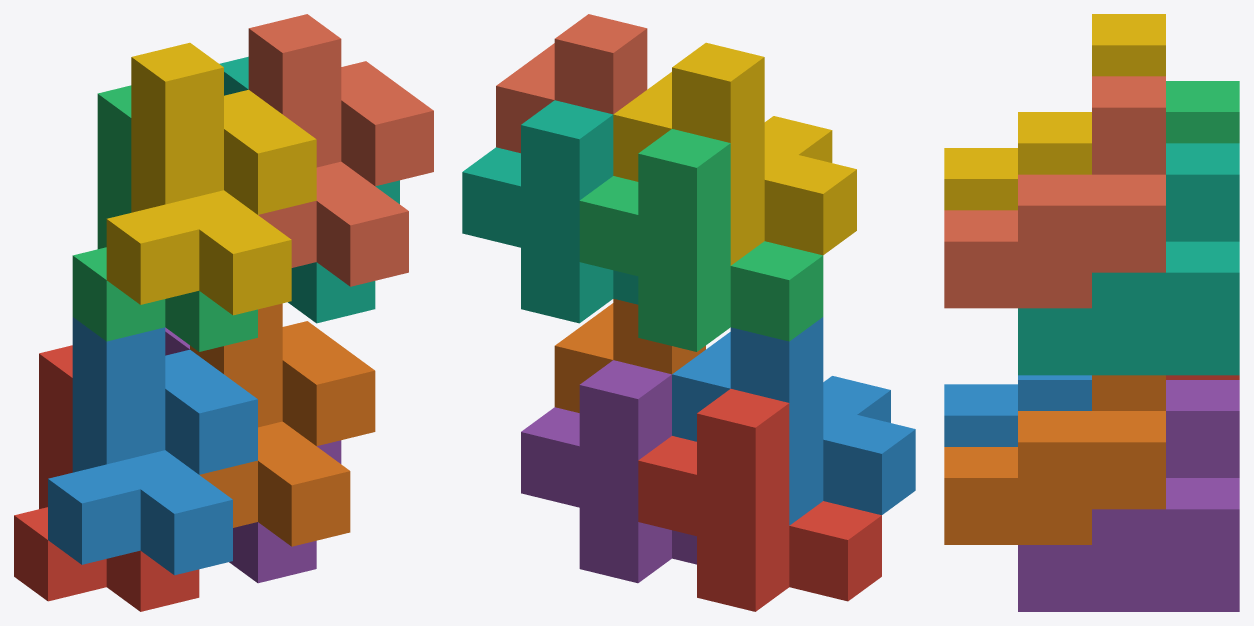
Rendered from tiling.obj.
3 renders of one model, left to right at view 1: azimuth 30°, elevation 25°; view 2: azimuth 150°, elevation 25°; view 3: azimuth 270°, elevation 25°, orthographic. The views are drawn at different scales.
Parts seen in each view (by area): view 1: copy_1_domain_4, copy_1_domain_2, copy_1_domain_8, copy_1_domain_6, copy_1_domain_3, copy_1_domain_1, copy_1_domain_7, copy_1_domain_5; view 2: copy_1_domain_3, copy_1_domain_1, copy_1_domain_4, copy_1_domain_2, copy_1_domain_7, copy_1_domain_5, copy_1_domain_8, copy_1_domain_6; view 3: copy_1_domain_8, copy_1_domain_7, copy_1_domain_5, copy_1_domain_6, copy_1_domain_4, copy_1_domain_2, copy_1_domain_3.
Part boxes in pixels (<box>): copy_1_domain_4: <box>106,42,316,315</box>; copy_1_domain_2: <box>48,317,257,575</box>; copy_1_domain_8: <box>248,14,433,286</box>; copy_1_domain_6: <box>190,303,375,546</box>; copy_1_domain_3: <box>72,85,257,351</box>; copy_1_domain_1: <box>14,345,199,611</box>; copy_1_domain_7: <box>219,56,399,323</box>; copy_1_domain_5: <box>165,327,341,583</box>; copy_1_domain_3: <box>579,129,823,351</box>; copy_1_domain_1: <box>638,389,881,611</box>; copy_1_domain_4: <box>613,42,856,265</box>; copy_1_domain_2: <box>672,317,915,525</box>; copy_1_domain_7: <box>462,100,638,323</box>; copy_1_domain_5: <box>521,360,696,583</box>; copy_1_domain_8: <box>496,14,647,153</box>; copy_1_domain_6: <box>554,298,705,412</box>; copy_1_domain_8: <box>944,76,1165,308</box>; copy_1_domain_7: <box>1018,143,1239,375</box>; copy_1_domain_5: <box>1018,380,1239,611</box>; copy_1_domain_6: <box>944,375,1165,544</box>; copy_1_domain_4: <box>944,14,1165,210</box>; copy_1_domain_2: <box>944,375,1091,446</box>; copy_1_domain_3: <box>1166,81,1239,143</box>.
Bounding box in the file's own units: 6 × 8 × 4.
